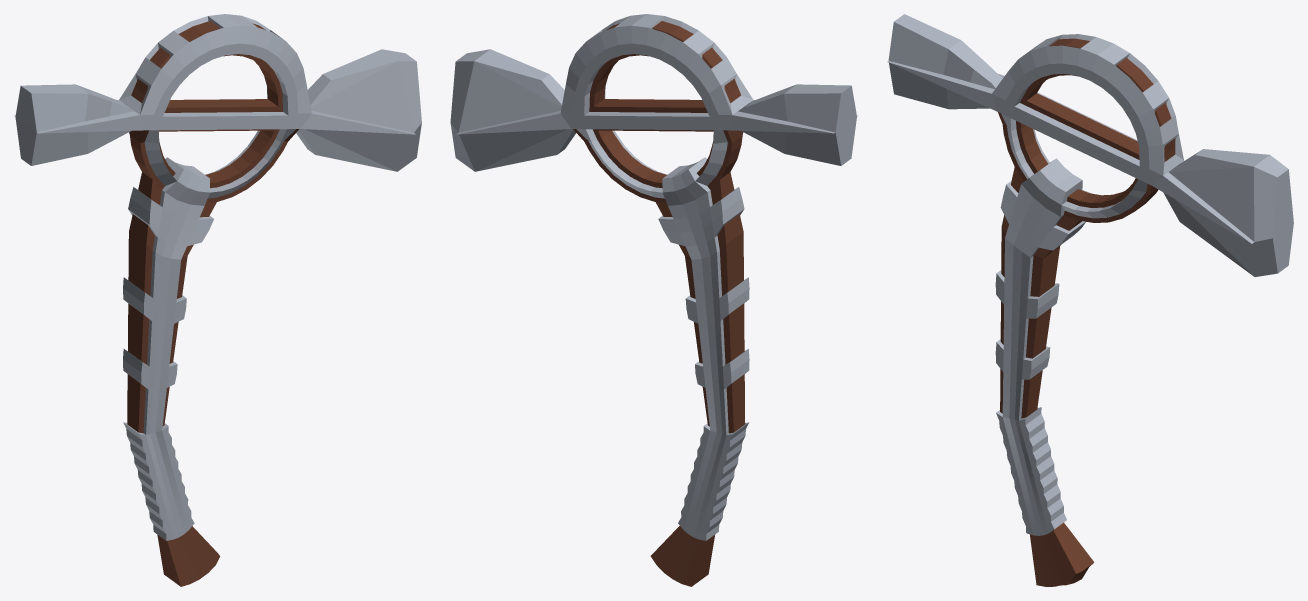
File: hammer 2 Fagerone.fbx
3 renders of one model, left to right at view 1: azimuth 30°, elevation 25°; view 2: azimuth 150°, elevation 25°; view 3: azimuth 330°, elevation 25°, orthographic.
Parts seen in each view (by area): view 1: Cylinder.001; view 2: Cylinder.001; view 3: Cylinder.001.
Part boxes in pixels (x1=…): Cylinder.001: x1=14, y1=14, x2=421, y2=586; Cylinder.001: x1=450, y1=14, x2=857, y2=586; Cylinder.001: x1=887, y1=14, x2=1293, y2=586.
Size of the model in its own units: 3.25 by 4.44 by 0.5368.
Materials: 1 (1 with a texture image).
